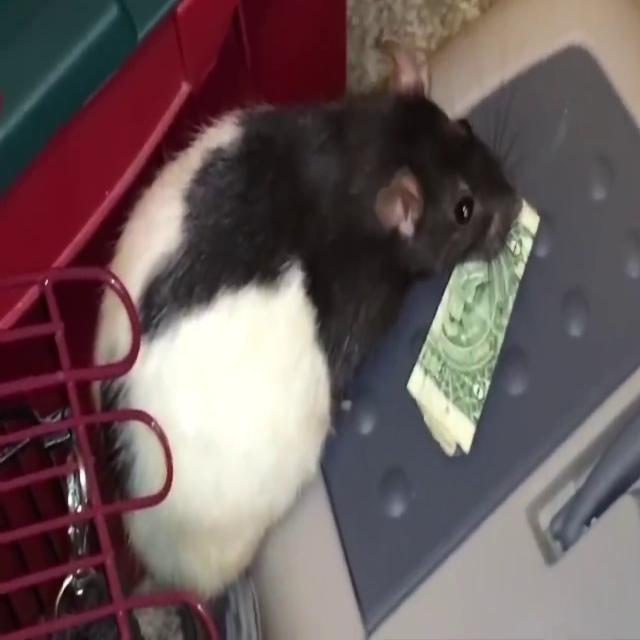rat: (99, 69, 522, 574)
